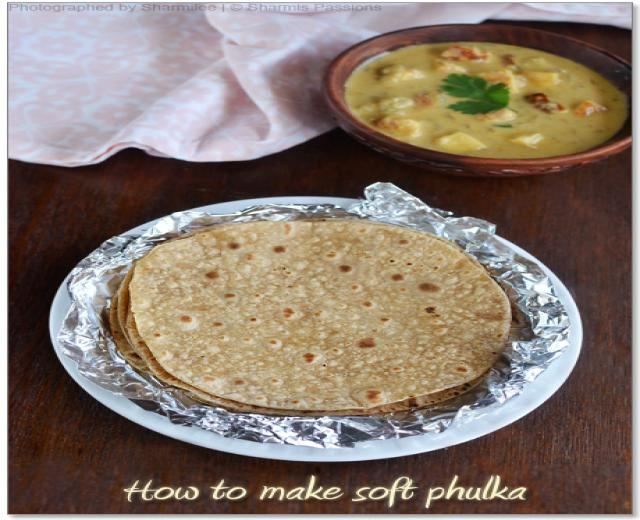chapati: (120, 219, 509, 414)
